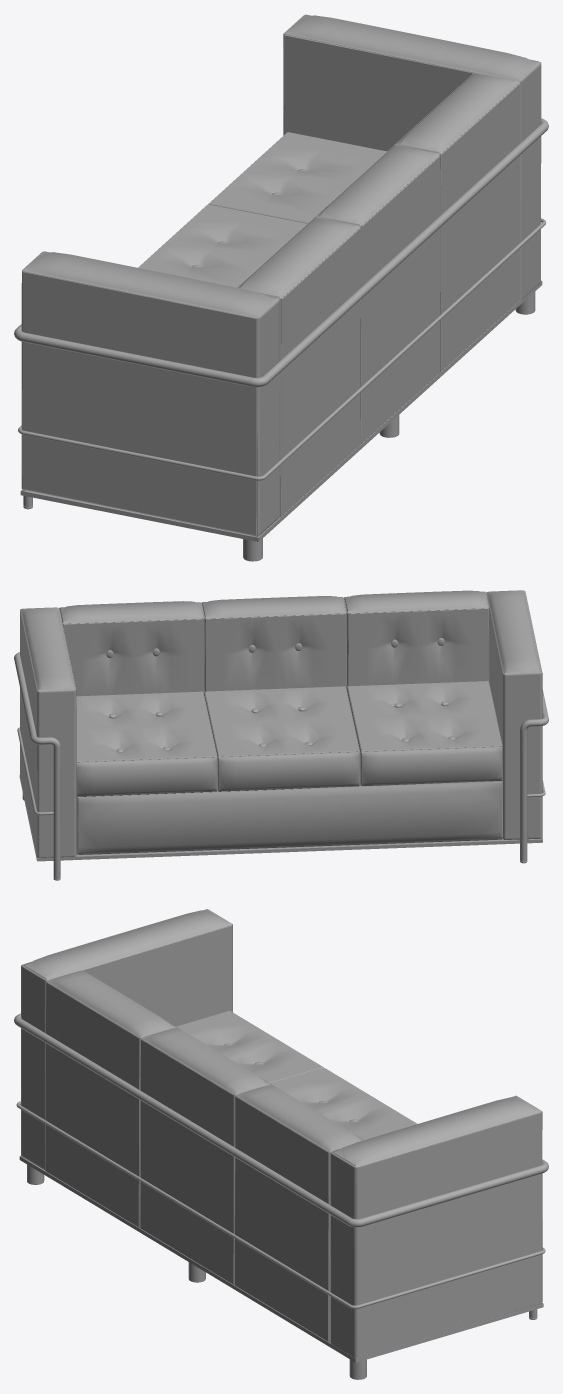
File: SOFA-004.glb
The picture shows the model from 3 angles, top to bottom: view 1: azimuth 30°, elevation 25°; view 2: azimuth 150°, elevation 25°; view 3: azimuth 270°, elevation 25°; orthographic projection. The views are drawn at different scales.
Visible parts, largest first — view 1: Couch_01_; view 2: Couch_01_; view 3: Couch_01_.
Part boxes in pixels (x1,y1,x2,y2): Couch_01_: (14, 14, 548, 561); Couch_01_: (14, 590, 548, 880); Couch_01_: (14, 909, 548, 1379).
Bounding box in the file's own units: 172 × 67 × 147.
1 material, 1 textured.
